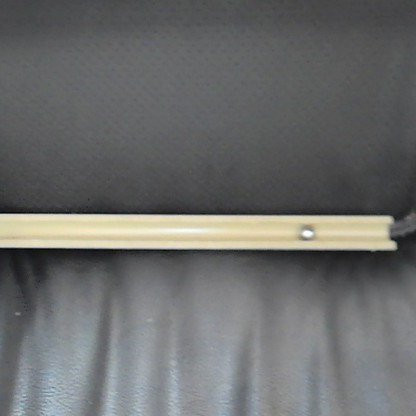ironball: (297, 223, 317, 242)
